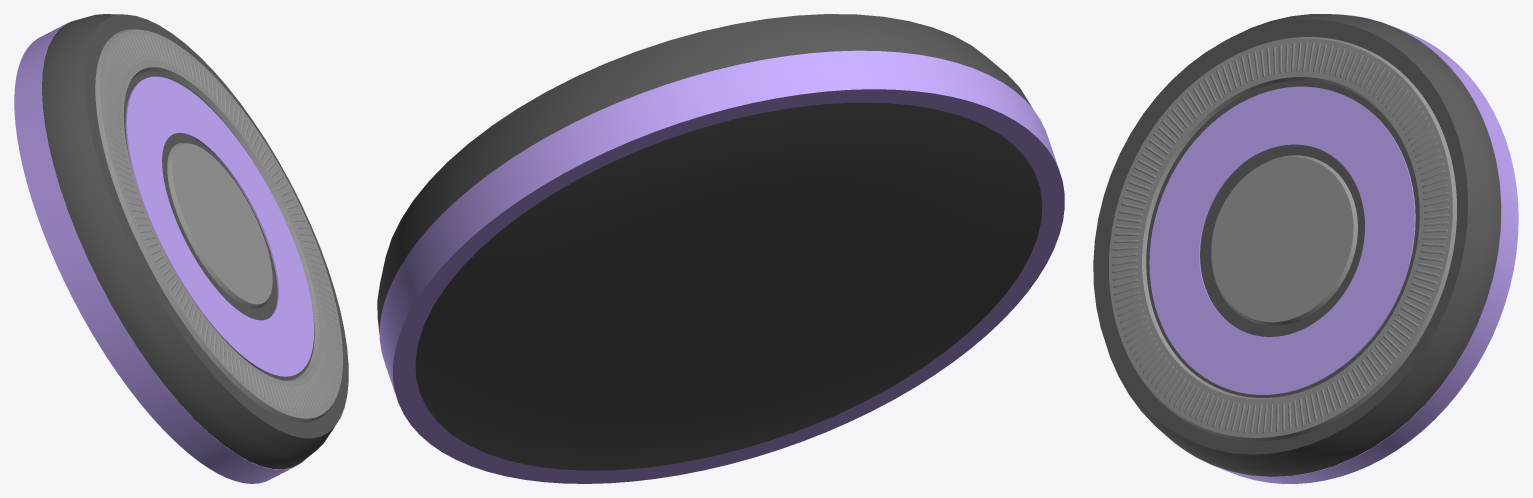
File: demonstration_noCorona2.glb
3 views of the same model, side by side, from view 1: azimuth 30°, elevation 25°; view 2: azimuth 150°, elevation 25°; view 3: azimuth 270°, elevation 25° (orthographic). The views are drawn at different scales.
Parts seen in each view (by area): view 1: Tube (×2), Oil Tank, Rotate, Oil Tank.1; view 2: Oil Tank, Tube; view 3: Tube (×2), Oil Tank, Rotate, Oil Tank.1.
Part boxes in pixels (x1=…): Tube (×2): x1=14, y1=20, x2=313, y2=483; Oil Tank: x1=42, y1=14, x2=348, y2=469; Rotate: x1=95, y1=29, x2=342, y2=422; Oil Tank.1: x1=167, y1=142, x2=272, y2=308; Oil Tank: x1=377, y1=14, x2=1042, y2=470; Tube: x1=379, y1=50, x2=1064, y2=483; Tube (×2): x1=1149, y1=14, x2=1518, y2=483; Oil Tank: x1=1093, y1=14, x2=1501, y2=476; Rotate: x1=1109, y1=37, x2=1456, y2=441; Oil Tank.1: x1=1211, y1=155, x2=1357, y2=325.
Size of the model in its own units: 5.05 by 5.38 by 5.38.
